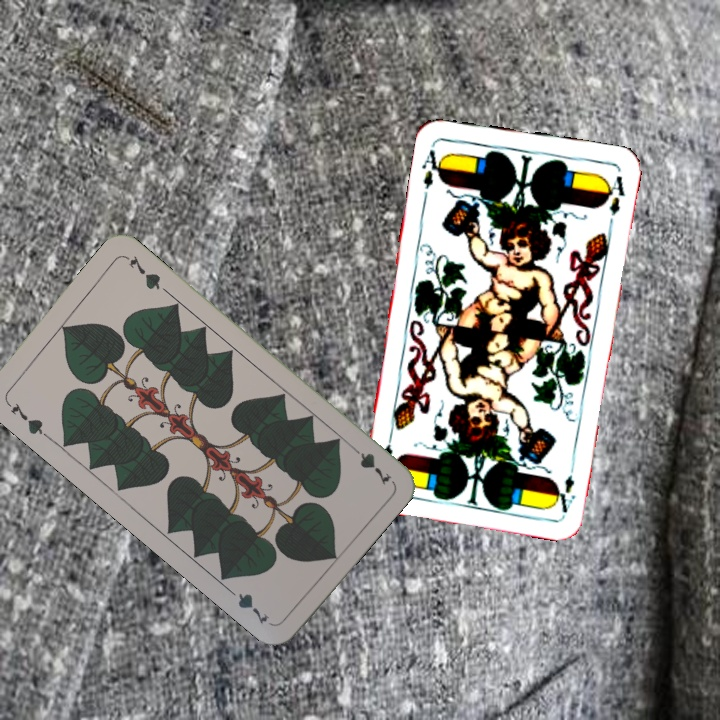EA: (550, 457, 578, 516), (418, 146, 447, 192)
G7: (345, 439, 394, 488), (2, 397, 51, 441)
